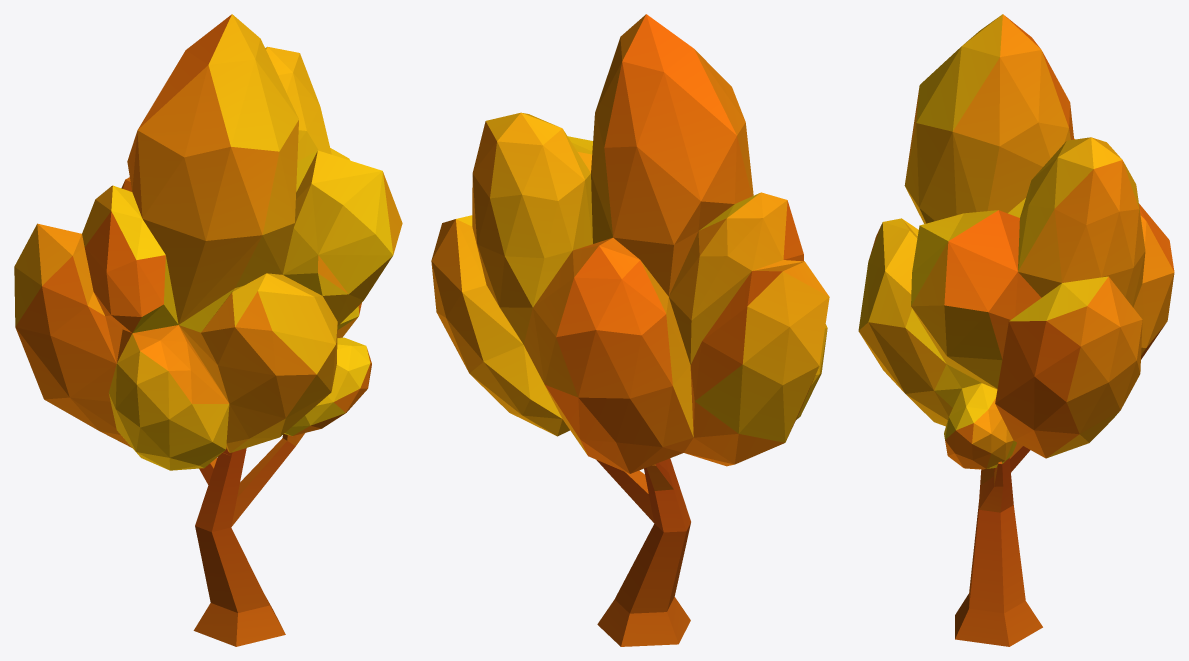
Rendered from TreeOakYellow.fbx.
3 renders of one model, left to right at view 1: azimuth 30°, elevation 25°; view 2: azimuth 150°, elevation 25°; view 3: azimuth 270°, elevation 25°, orthographic.
Visible parts, largest first — view 1: TreeOakYellow_LOD0; view 2: TreeOakYellow_LOD0; view 3: TreeOakYellow_LOD0.
Part boxes in pixels (left/top/right/bottom): TreeOakYellow_LOD0: left=14, top=14, right=402, bottom=646; TreeOakYellow_LOD0: left=431, top=14, right=829, bottom=646; TreeOakYellow_LOD0: left=858, top=14, right=1174, bottom=646.
Size of what is drawn, in the model's own units: 522 by 841 by 394.
